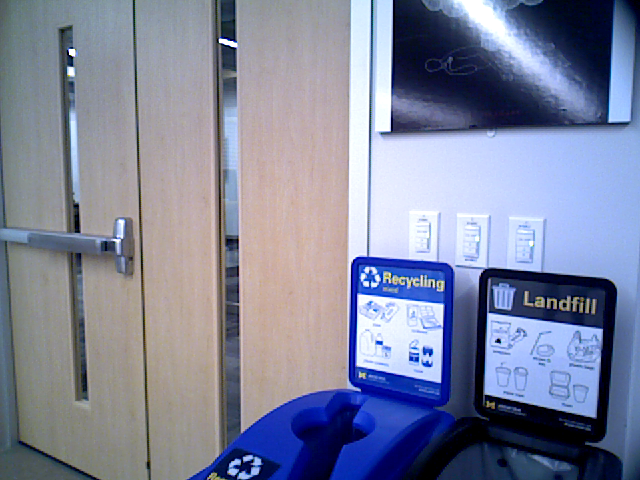painting1: (377, 1, 640, 134)
